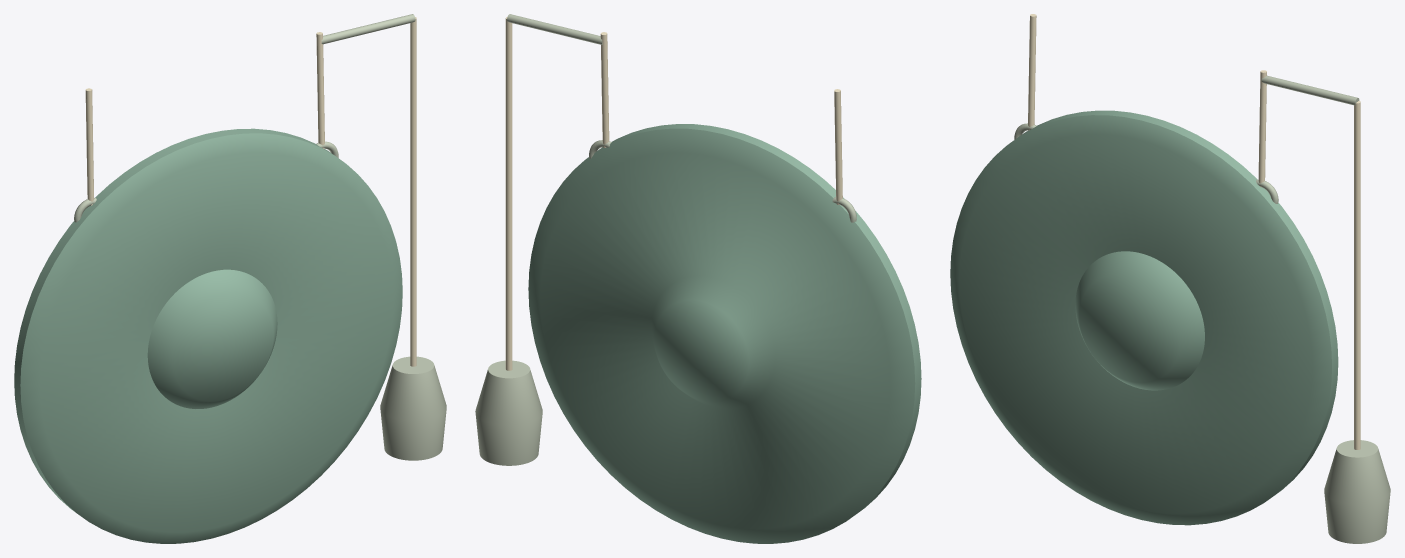
Rendered from enchanted-harp-garden-and-music-sanctuary-counterweigh-f8b1a6ed__30434.glb.
The picture shows the model from 3 angles, left to right: view 1: azimuth 30°, elevation 25°; view 2: azimuth 150°, elevation 25°; view 3: azimuth 330°, elevation 25°; orthographic projection.
Visible parts, largest first — view 1: counterweight-gong; view 2: counterweight-gong; view 3: counterweight-gong.
Boxes of the visible parts, left/top/right/bottom form: counterweight-gong: left=14, top=14, right=446, bottom=543; counterweight-gong: left=475, top=14, right=921, bottom=543; counterweight-gong: left=950, top=14, right=1390, bottom=543.
Bounding box in the file's own units: 1.19 × 1.25 × 0.18.
